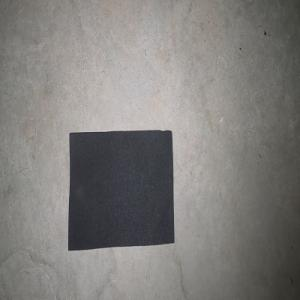PaintChip: (67, 129, 174, 250)
